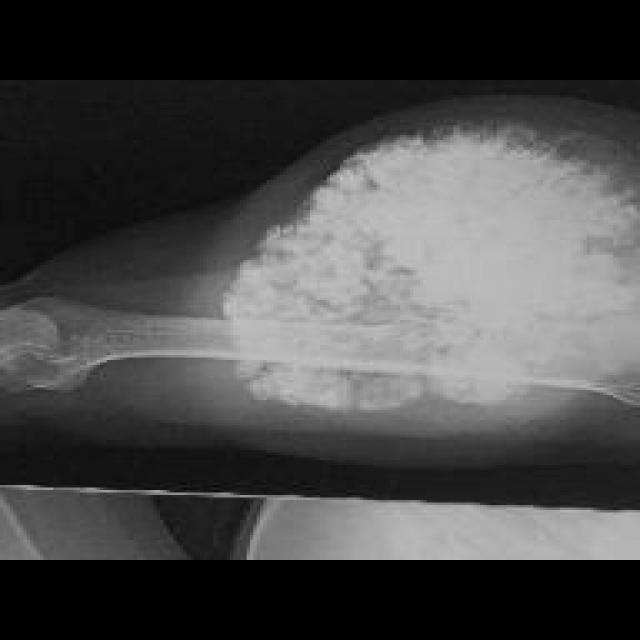bone-cancer: (223, 122, 637, 406)
